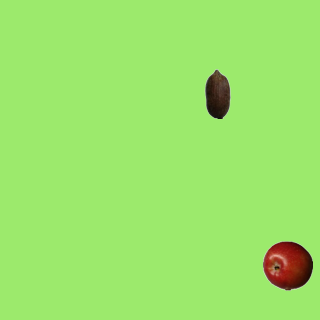Apple Braeburn: (262, 240, 312, 290)
Nut Pecan: (192, 68, 242, 118)
